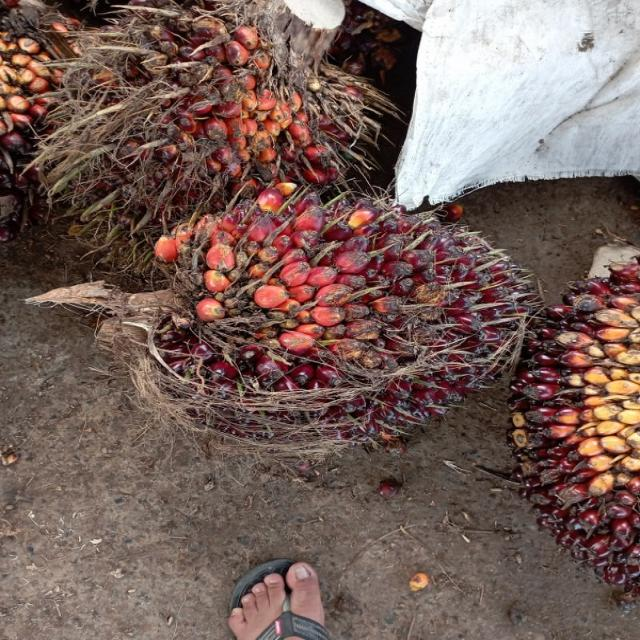fraksi 1: (75, 116, 570, 509)
